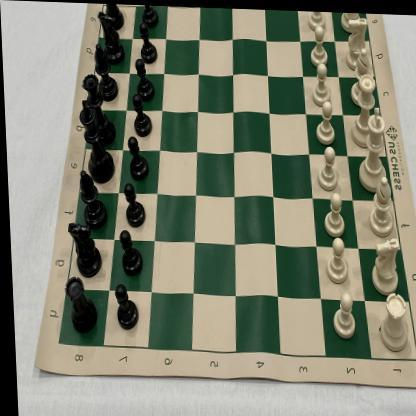black-bishop: (77, 170, 106, 228), (93, 43, 118, 101)
black-king: (75, 99, 113, 182)
black-pawn: (111, 279, 137, 332), (122, 177, 144, 226), (117, 227, 139, 276), (131, 89, 153, 137), (134, 56, 156, 99), (127, 132, 147, 179), (138, 20, 158, 62), (140, 4, 159, 28)
black-queen: (81, 72, 109, 137)
black-rook: (61, 275, 97, 334), (66, 218, 100, 278), (98, 10, 125, 62), (101, 3, 123, 30)
white-bishop: (366, 170, 395, 233), (348, 45, 373, 104)
white-king: (354, 103, 388, 190)
white-knight: (367, 231, 400, 293), (343, 14, 369, 68)
white-pawn: (322, 234, 351, 283), (329, 290, 358, 337), (314, 143, 342, 190), (313, 98, 340, 143), (321, 190, 348, 234), (310, 60, 333, 104), (308, 23, 331, 65), (308, 9, 330, 28)
white-queen: (348, 71, 380, 146)
white-rook: (375, 286, 407, 350), (339, 10, 364, 32)
